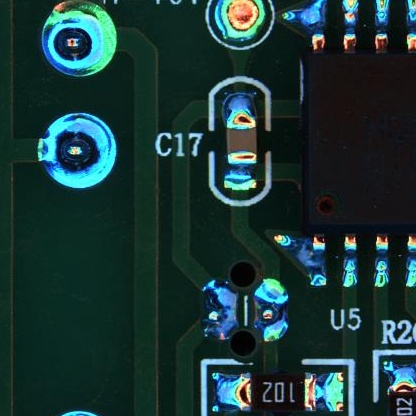spot: (37, 111, 118, 191), (42, 1, 116, 76), (253, 277, 289, 345), (201, 279, 239, 343), (214, 1, 268, 46)
